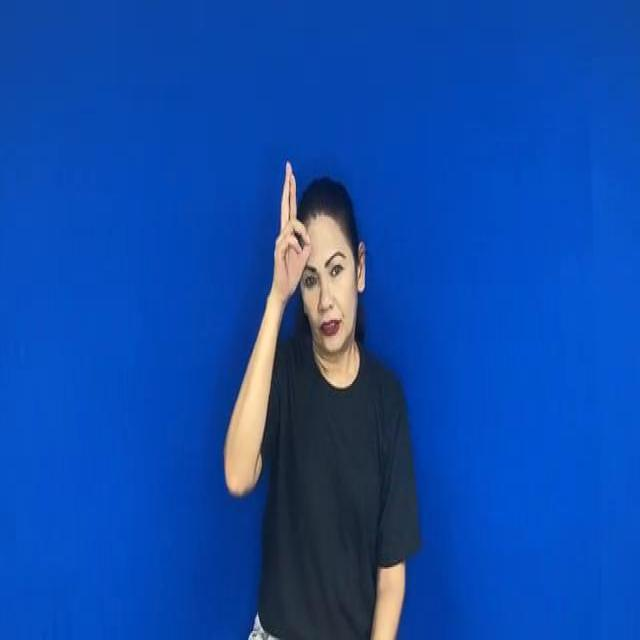chicken: (266, 152, 312, 292)
